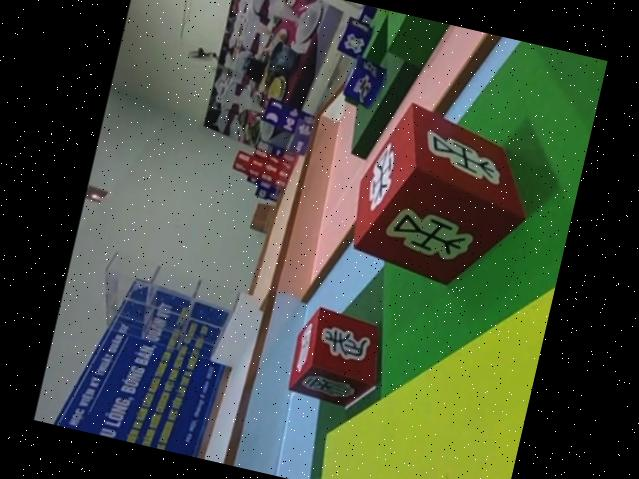R2 Fake: (280, 300, 391, 412)
R2 Real: (339, 93, 545, 299)
